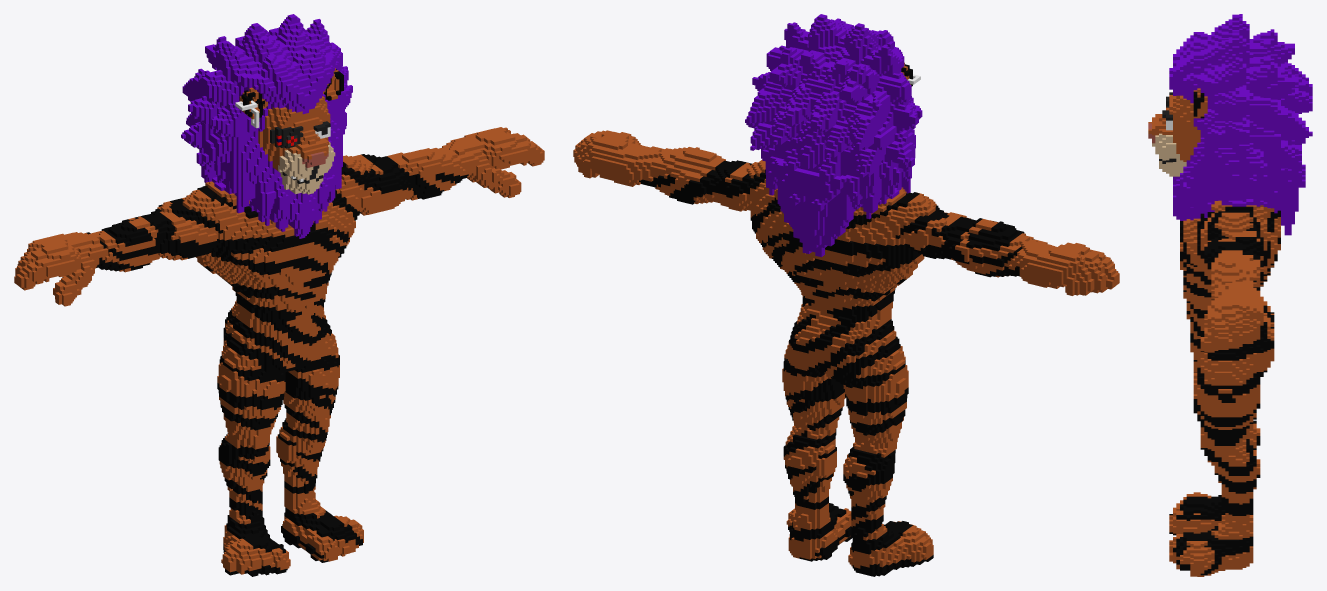
File: 119-C2cvHC5t.fbx
3 renders of one model, left to right at view 1: azimuth 30°, elevation 25°; view 2: azimuth 150°, elevation 25°; view 3: azimuth 270°, elevation 25°, orthographic. The views are drawn at different scales.
Parts seen in each view (by area): view 1: smirk; view 2: smirk; view 3: smirk.
Part boxes in pixels (bbox=[...]): smirk: bbox=[14, 14, 544, 576]; smirk: bbox=[573, 14, 1119, 576]; smirk: bbox=[1148, 14, 1312, 576].
Bounding box in the file's own units: 17.2 × 16.5 × 4.7.
Materials: 5 (5 with a texture image).
